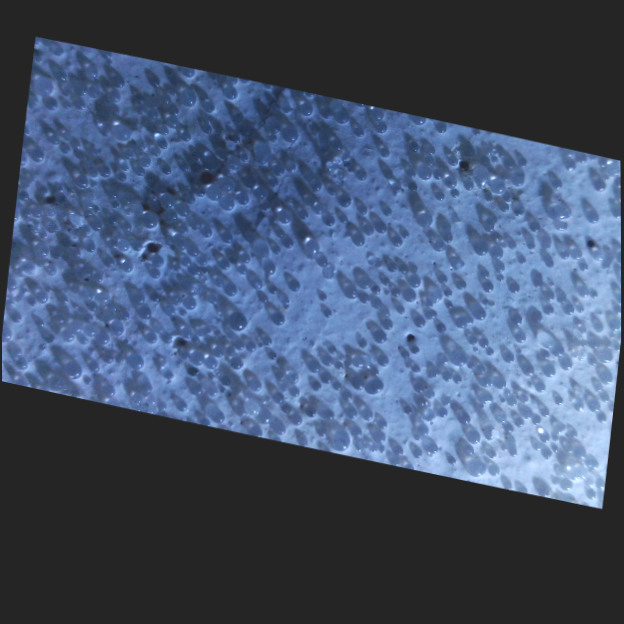GrassBeadSeg: (75, 84, 559, 454), (115, 74, 540, 425), (85, 179, 567, 486), (77, 176, 548, 476), (96, 220, 596, 500), (202, 124, 570, 491), (40, 55, 372, 455), (49, 134, 594, 370), (56, 70, 461, 383), (92, 205, 584, 458), (181, 131, 550, 443), (38, 186, 493, 439), (68, 144, 447, 416), (71, 139, 500, 377), (184, 157, 517, 457), (140, 166, 529, 415), (93, 272, 556, 480), (197, 160, 613, 385), (16, 147, 384, 393), (98, 292, 561, 485), (85, 176, 482, 400), (125, 239, 540, 450), (44, 126, 447, 343), (48, 223, 468, 424), (181, 89, 567, 306), (121, 221, 469, 454), (46, 264, 564, 419), (35, 242, 399, 456), (121, 126, 373, 415), (88, 86, 536, 246), (74, 98, 363, 346), (261, 203, 559, 439), (206, 184, 544, 392), (177, 223, 540, 411), (40, 148, 318, 390), (181, 132, 450, 381), (205, 204, 525, 413), (206, 125, 458, 383), (163, 249, 565, 409), (47, 178, 341, 390), (61, 143, 553, 264), (66, 282, 493, 418), (269, 178, 571, 370), (214, 345, 595, 491), (162, 180, 505, 339), (56, 46, 315, 247), (53, 46, 442, 179), (32, 206, 271, 422), (109, 90, 452, 240), (205, 262, 588, 395), (110, 106, 333, 334), (204, 101, 432, 318), (168, 115, 335, 410), (164, 169, 438, 342), (31, 148, 245, 369), (299, 209, 514, 427), (100, 124, 617, 213), (224, 86, 536, 233), (32, 191, 444, 302), (120, 161, 569, 259), (153, 147, 389, 331), (320, 106, 493, 356), (262, 186, 421, 457), (339, 214, 548, 417), (177, 202, 361, 432), (104, 193, 326, 383), (23, 145, 262, 320), (132, 109, 342, 305), (114, 125, 592, 211), (144, 229, 408, 381), (55, 163, 296, 324), (198, 255, 423, 427), (344, 195, 540, 392), (414, 208, 620, 392), (119, 248, 581, 330), (376, 108, 620, 262), (84, 360, 473, 456), (187, 172, 583, 265), (220, 259, 534, 376), (84, 145, 270, 335), (112, 200, 263, 422), (317, 241, 488, 437), (273, 263, 517, 399), (100, 124, 226, 379), (70, 237, 295, 378), (103, 351, 524, 426), (36, 78, 144, 368), (448, 155, 557, 441), (221, 274, 503, 381), (106, 51, 353, 172), (61, 328, 372, 420), (281, 102, 416, 312), (270, 163, 432, 338), (188, 180, 473, 275), (88, 256, 320, 372), (247, 253, 386, 442), (338, 195, 553, 314), (12, 311, 381, 380), (300, 101, 418, 315), (323, 214, 575, 314), (420, 249, 602, 387), (151, 254, 296, 424), (283, 125, 386, 363), (247, 340, 520, 427), (36, 79, 155, 278), (221, 196, 466, 291), (447, 178, 563, 377), (259, 122, 387, 302), (436, 123, 517, 406), (31, 205, 152, 393), (120, 262, 505, 321), (264, 335, 598, 403), (313, 204, 403, 456), (360, 293, 494, 459), (97, 275, 419, 344), (130, 286, 445, 355), (321, 191, 445, 366), (359, 210, 599, 300), (225, 86, 391, 216), (222, 215, 348, 386), (221, 386, 511, 460), (165, 288, 399, 377), (85, 225, 202, 395), (45, 98, 278, 182), (202, 226, 392, 329), (274, 275, 420, 406), (277, 209, 360, 437), (254, 186, 405, 309), (387, 262, 599, 349), (287, 162, 350, 451), (180, 290, 553, 338), (379, 281, 493, 436), (333, 316, 466, 445), (245, 181, 317, 413), (283, 209, 425, 326), (37, 292, 279, 360), (100, 110, 349, 176), (222, 231, 386, 328), (46, 205, 276, 274), (231, 215, 335, 362), (429, 346, 620, 425), (106, 122, 384, 176), (190, 201, 509, 248), (289, 237, 383, 393), (275, 164, 450, 243), (47, 205, 169, 314), (108, 165, 178, 353), (166, 117, 281, 231), (95, 307, 486, 340), (265, 118, 449, 188), (141, 211, 301, 291), (228, 156, 285, 380), (137, 279, 462, 318), (298, 304, 403, 424), (315, 274, 443, 371), (314, 182, 378, 375), (345, 190, 455, 300), (358, 180, 469, 289), (325, 371, 455, 464), (327, 354, 561, 405), (306, 204, 362, 417), (310, 289, 453, 371), (269, 203, 323, 413), (134, 126, 360, 176), (117, 171, 368, 214), (186, 182, 418, 226), (322, 128, 476, 193), (417, 155, 452, 435), (476, 128, 605, 202), (358, 240, 445, 348), (402, 349, 513, 433), (220, 196, 402, 247), (333, 344, 420, 450), (245, 170, 366, 245), (479, 350, 585, 434), (380, 354, 477, 443), (290, 363, 548, 396), (406, 348, 520, 422), (198, 218, 288, 309), (63, 99, 133, 215), (29, 96, 119, 186), (240, 252, 286, 427), (183, 184, 245, 310), (578, 173, 619, 361), (356, 399, 506, 450), (384, 290, 450, 405), (418, 213, 514, 292), (544, 180, 605, 302), (214, 329, 289, 428), (151, 224, 374, 257), (431, 259, 553, 319), (508, 239, 545, 433), (552, 161, 576, 452), (95, 302, 194, 372), (88, 360, 321, 389), (407, 169, 501, 240), (251, 278, 380, 329), (125, 193, 176, 320), (430, 241, 554, 292), (525, 394, 592, 488), (83, 203, 271, 236), (322, 350, 409, 420), (494, 243, 535, 389), (203, 104, 288, 171), (103, 172, 128, 396), (576, 304, 606, 490), (149, 211, 263, 258), (155, 232, 238, 296), (418, 240, 443, 450), (204, 213, 422, 237), (155, 292, 236, 356), (541, 412, 602, 496), (383, 206, 464, 269), (150, 294, 218, 369), (276, 228, 350, 294), (374, 221, 503, 258), (532, 304, 620, 357), (177, 114, 211, 249), (293, 256, 327, 386), (322, 224, 368, 317), (92, 220, 200, 257), (522, 331, 552, 460), (305, 376, 364, 440), (359, 346, 522, 369), (91, 179, 143, 251), (114, 177, 229, 209), (186, 66, 280, 105), (496, 330, 521, 476), (390, 155, 486, 192), (475, 351, 512, 442), (295, 232, 365, 280), (249, 241, 271, 391), (416, 265, 489, 310), (7, 232, 62, 291), (58, 352, 137, 393), (373, 300, 517, 322), (37, 186, 81, 258), (111, 75, 209, 107), (362, 397, 421, 449), (170, 217, 201, 315), (26, 192, 118, 225), (273, 245, 326, 302), (191, 349, 342, 369), (238, 265, 262, 389), (240, 406, 308, 447), (523, 154, 620, 182), (145, 306, 287, 324), (294, 362, 421, 382), (373, 235, 395, 342), (107, 293, 214, 315), (542, 304, 585, 358), (452, 350, 597, 366), (207, 133, 278, 164), (169, 106, 192, 195), (590, 261, 615, 337), (230, 266, 259, 330), (382, 264, 419, 314), (371, 264, 405, 317), (450, 177, 599, 189), (578, 287, 620, 329), (234, 134, 342, 150), (15, 348, 56, 390), (574, 370, 607, 422), (450, 190, 460, 359), (171, 295, 212, 334), (23, 182, 117, 199), (336, 108, 383, 142), (145, 92, 164, 167), (490, 245, 519, 294), (63, 328, 157, 343), (595, 382, 609, 480), (411, 344, 440, 391), (94, 66, 121, 115), (86, 66, 195, 78), (85, 292, 181, 305), (177, 264, 190, 358), (8, 279, 53, 306), (384, 156, 434, 180), (239, 123, 274, 157), (561, 294, 620, 314), (501, 406, 527, 451), (153, 323, 167, 405), (329, 344, 362, 378), (165, 126, 189, 172), (196, 328, 245, 350), (203, 114, 241, 142), (65, 297, 88, 343), (198, 152, 248, 173), (62, 125, 93, 157), (539, 472, 586, 492), (150, 77, 161, 155), (543, 305, 555, 376), (514, 255, 526, 325), (37, 296, 65, 326), (237, 405, 263, 437), (464, 314, 489, 347), (36, 51, 108, 62), (426, 388, 438, 453), (20, 184, 64, 201), (86, 190, 114, 216), (155, 324, 197, 341), (485, 147, 517, 169), (557, 395, 600, 411), (326, 153, 354, 177), (183, 240, 189, 351), (482, 221, 490, 304), (479, 337, 492, 387), (193, 151, 206, 197), (422, 398, 433, 451), (582, 333, 612, 352), (558, 287, 589, 304), (24, 175, 36, 218), (338, 352, 370, 368), (427, 418, 443, 450), (532, 276, 543, 322), (440, 354, 482, 365), (499, 151, 527, 167), (93, 146, 130, 158), (135, 93, 171, 105), (203, 266, 210, 327), (180, 255, 200, 276), (59, 99, 71, 134), (412, 344, 443, 357), (609, 164, 620, 200), (415, 142, 436, 160), (148, 77, 159, 111), (600, 371, 612, 402), (27, 292, 50, 307), (408, 142, 417, 180), (483, 157, 507, 171), (175, 264, 205, 275), (90, 180, 100, 212), (520, 394, 533, 418), (109, 215, 118, 249), (579, 321, 602, 334), (141, 105, 160, 120), (490, 222, 503, 243), (363, 440, 385, 452), (476, 364, 488, 386), (502, 156, 512, 182), (186, 188, 202, 204), (272, 101, 292, 113), (138, 141, 147, 166), (192, 152, 203, 172), (132, 393, 152, 404), (389, 262, 409, 273), (489, 448, 497, 475), (136, 94, 146, 115), (159, 126, 169, 147), (485, 144, 502, 156), (128, 141, 139, 159), (155, 139, 166, 157), (353, 355, 371, 366), (31, 225, 45, 239), (272, 420, 285, 433), (84, 293, 92, 314), (118, 239, 130, 252), (219, 259, 230, 271), (208, 294, 220, 305), (201, 265, 208, 283), (354, 126, 364, 138), (189, 365, 199, 377), (429, 293, 441, 303), (178, 224, 189, 234), (269, 285, 278, 295), (83, 312, 93, 321), (162, 166, 171, 175), (332, 140, 339, 151), (232, 135, 240, 144), (203, 117, 213, 124), (89, 302, 96, 312), (604, 261, 610, 271)
